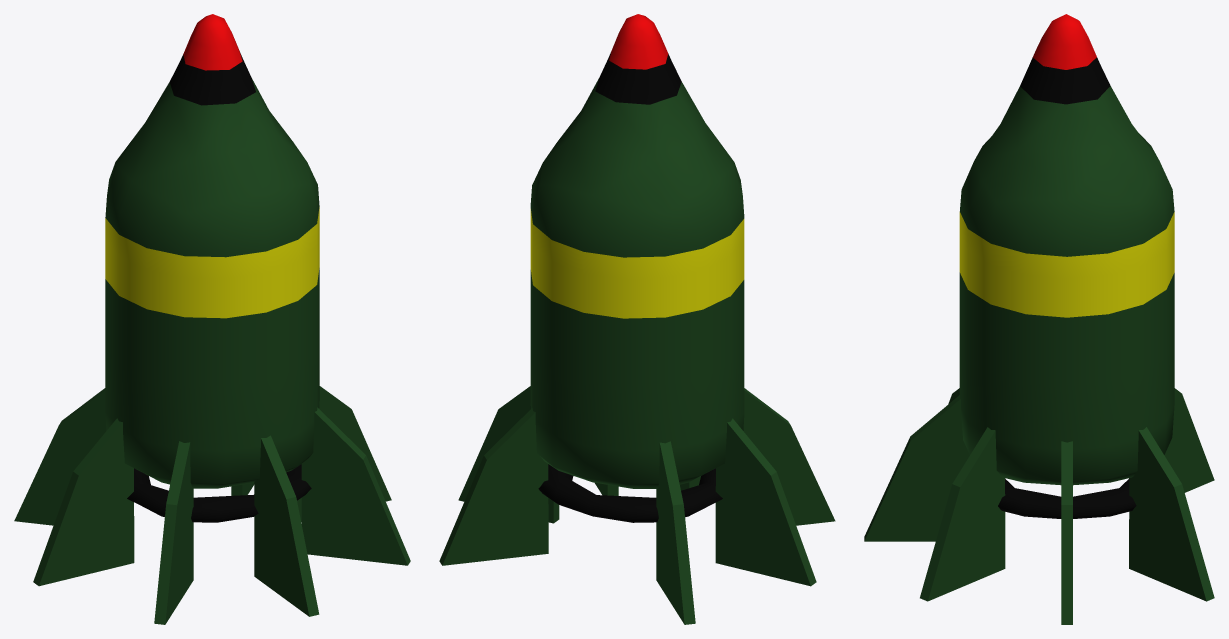
File: Bomb.glb
3 renders of one model, left to right at view 1: azimuth 30°, elevation 25°; view 2: azimuth 150°, elevation 25°; view 3: azimuth 270°, elevation 25°, orthographic.
Visible parts, largest first — view 1: mini-nuke, Cube.003, mini-nuke.001; view 2: mini-nuke, Cube.003, mini-nuke.001; view 3: mini-nuke, Cube.003, mini-nuke.001.
Part boxes in pixels (x1=…): mini-nuke: x1=105, y1=14, x2=319, y2=488; Cube.003: x1=14, y1=386, x2=410, y2=624; mini-nuke.001: x1=127, y1=464, x2=311, y2=522; mini-nuke: x1=530, y1=14, x2=744, y2=488; Cube.003: x1=439, y1=386, x2=835, y2=624; mini-nuke.001: x1=538, y1=464, x2=722, y2=522; mini-nuke: x1=959, y1=14, x2=1174, y2=485; Cube.003: x1=864, y1=388, x2=1214, y2=624; mini-nuke.001: x1=998, y1=479, x2=1136, y2=518.
Size of the model in its own units: 4.79 by 6.84 by 4.14.
